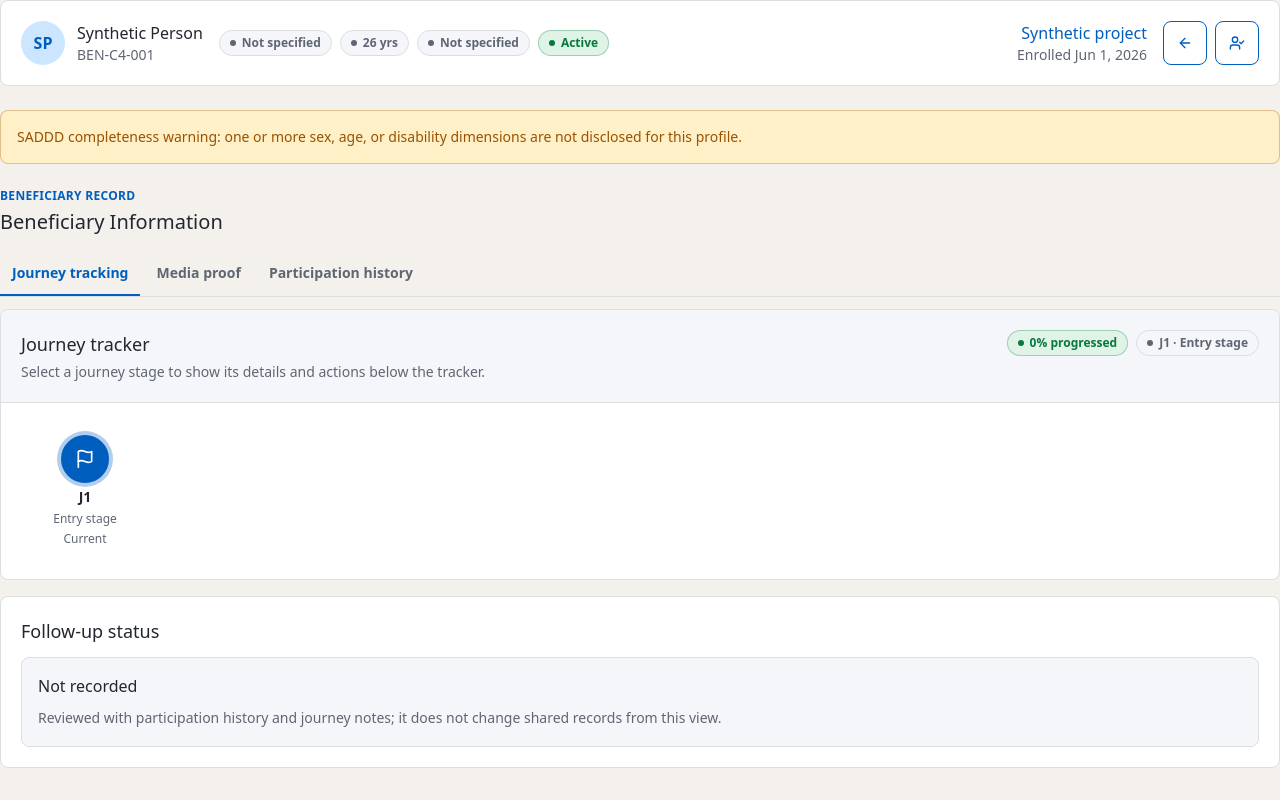
BeneficiaryDetail assessments › record score › shows the edit note
Click the button "J1 Entry stage Current" at {"x": 85, "y": 491}, box [37,435,133,547]
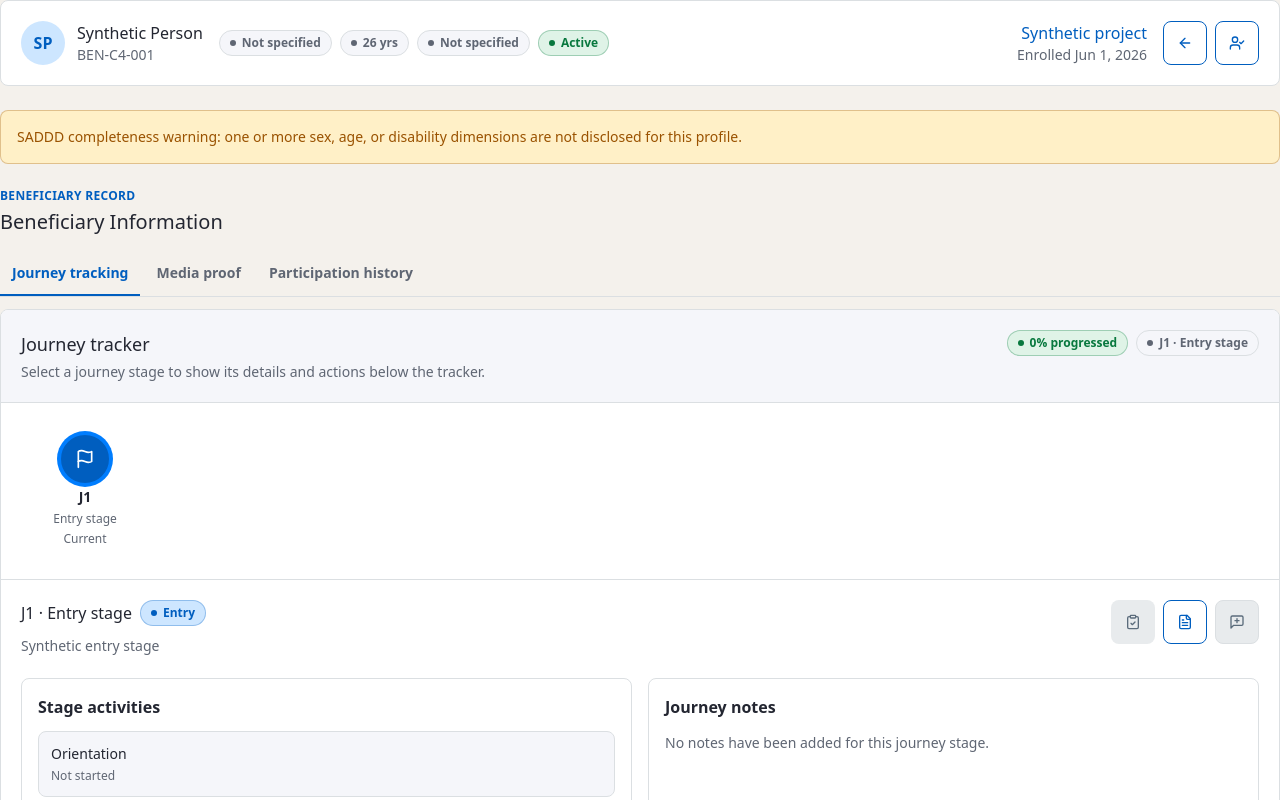
Click the button named "View assessment" at {"x": 1185, "y": 622}, box [1163,600,1207,644]
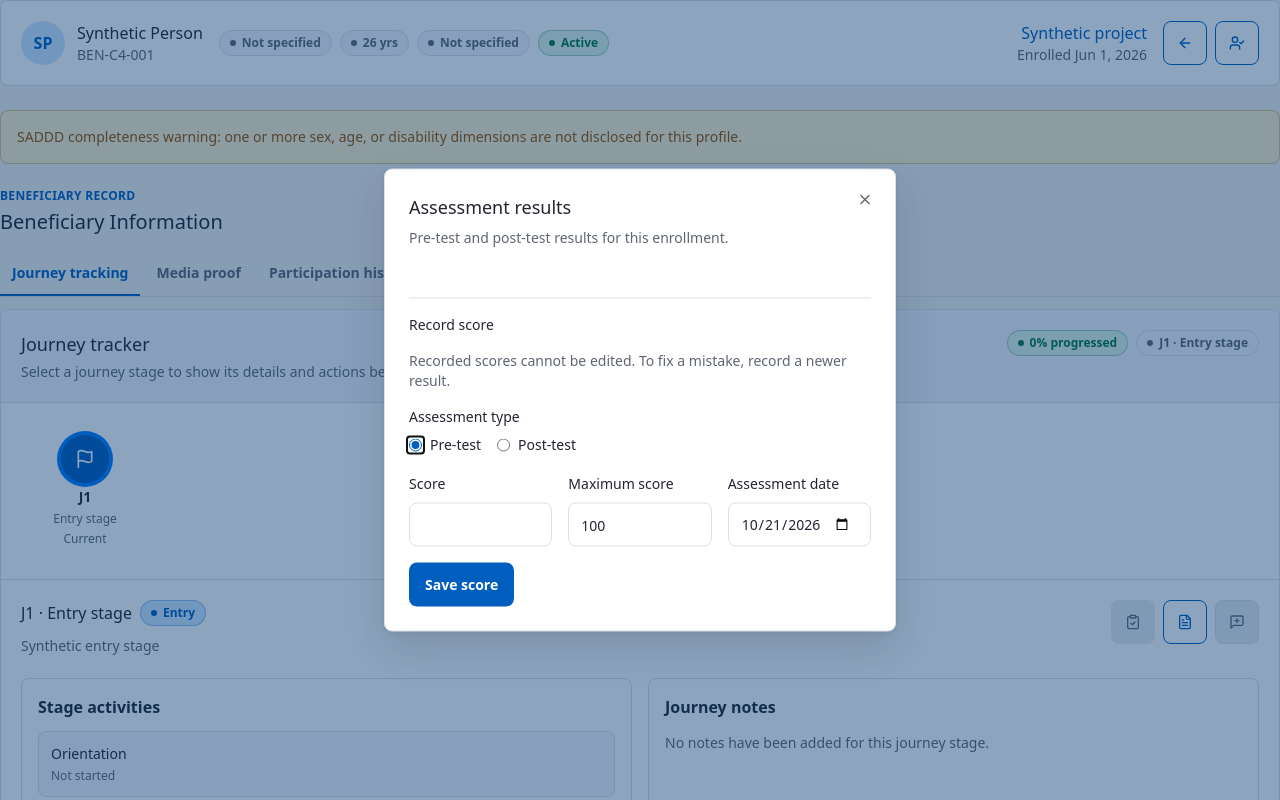
Now the dialog shows "Recorded scores cannot be edited. To fix a mistake, record a newer result.", box [409,350,847,390]
